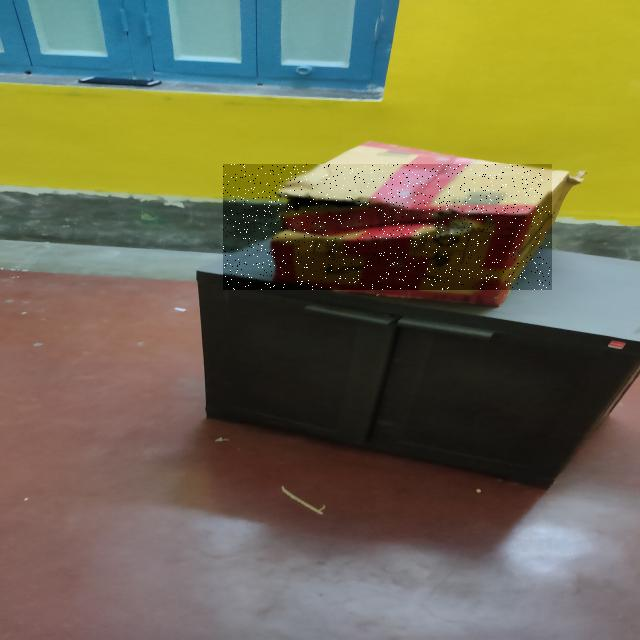squeeze: (224, 164, 550, 290)
